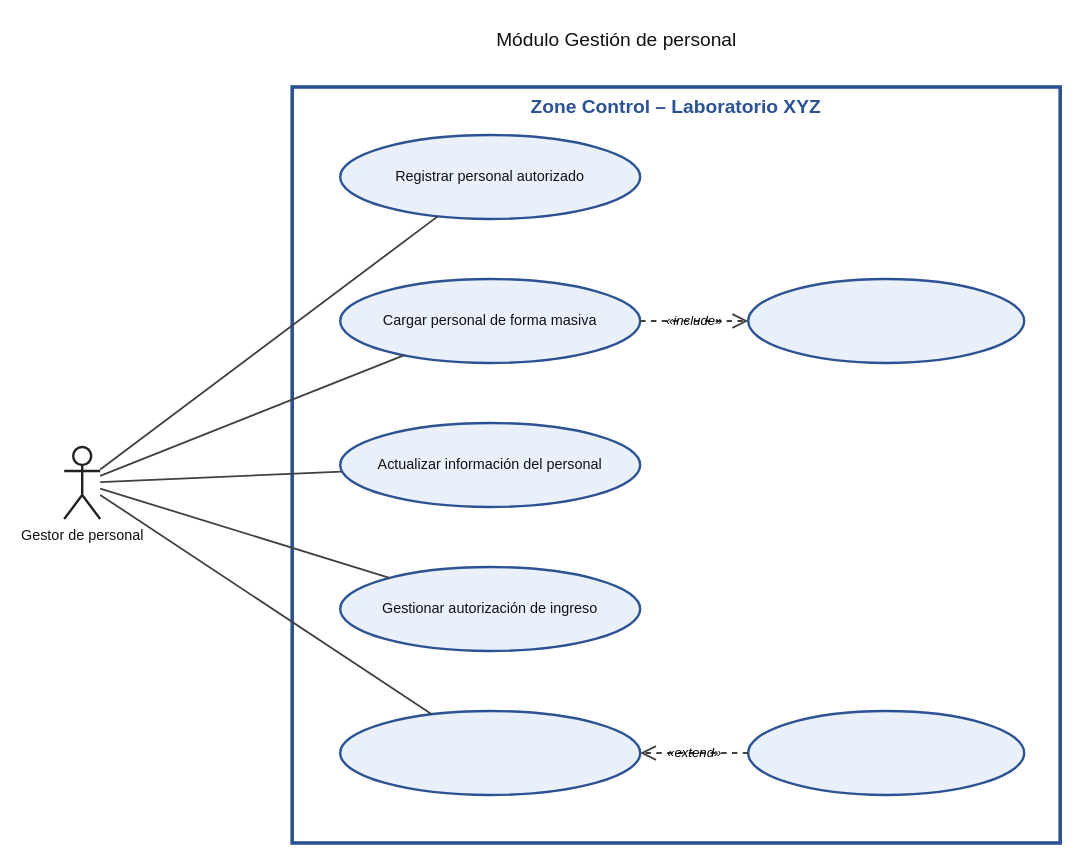
This 1082x865 diagram has some shape labels left out. Each missing label, with the centre of its shape:
"Buscar personal" goes at (x=489, y=752).
"Filtrar personal por departamento" goes at (x=885, y=752).
"Validar información de la carga masiva" goes at (x=885, y=320).
